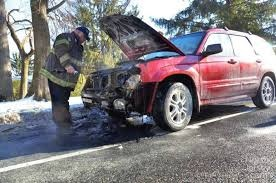Broken-glass: (119, 66, 143, 90)
Smashed: (84, 71, 149, 118)
